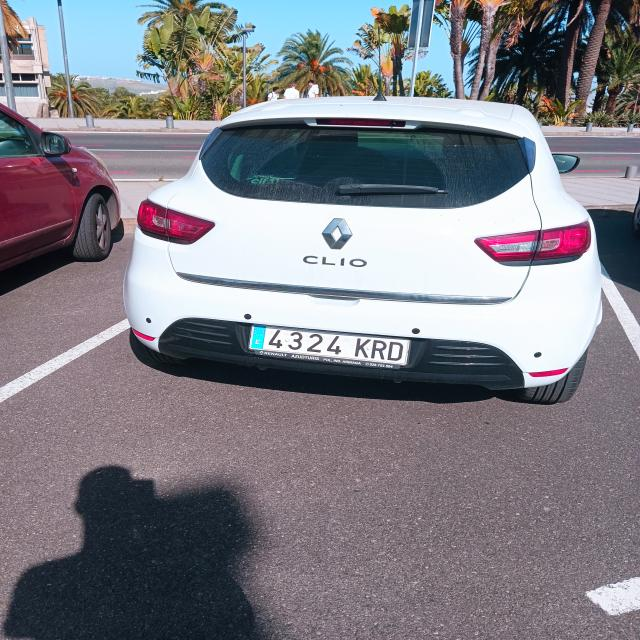football: (248, 322, 410, 365)
